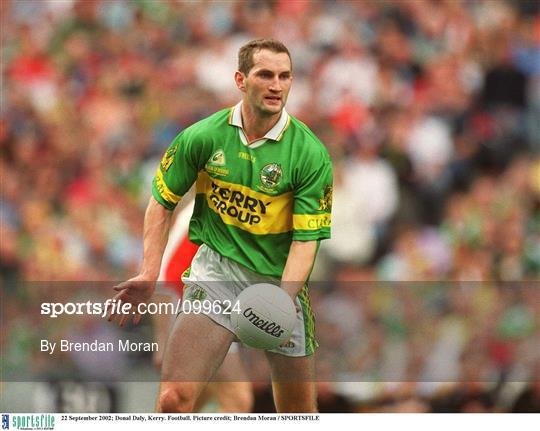ball: (228, 277, 302, 346)
player: (132, 32, 335, 410)
